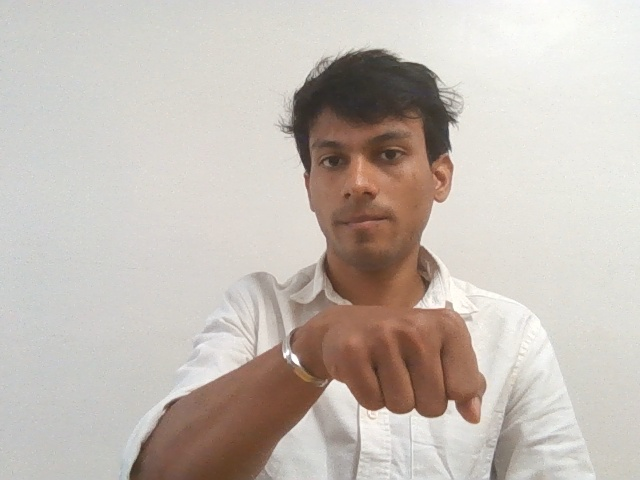Yes: (315, 296, 489, 431)
